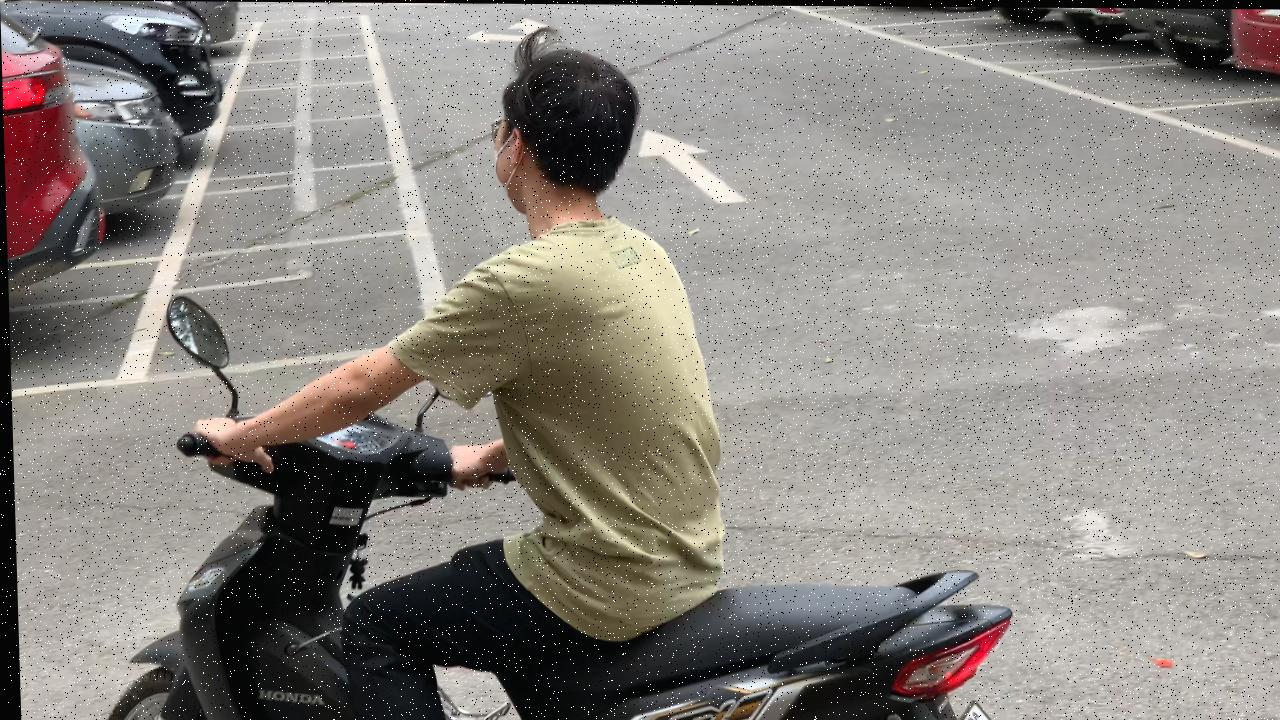motorcyclist: (82, 30, 1016, 720)
